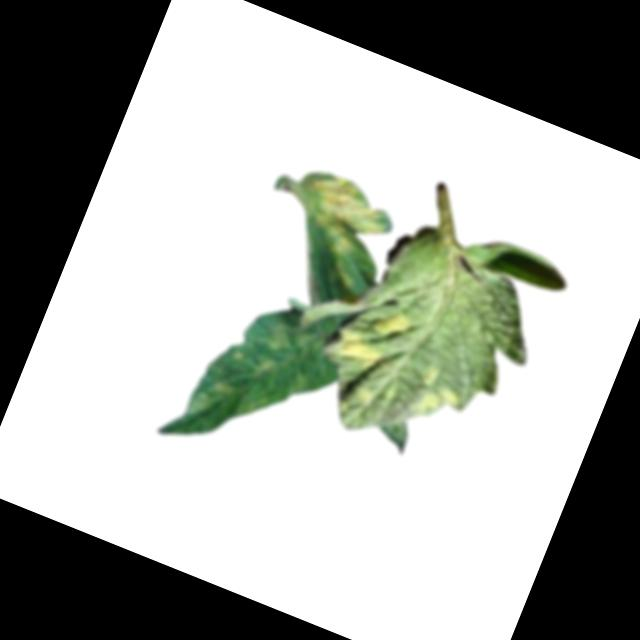Leaf_Mold: (283, 167, 396, 292), (408, 362, 468, 428), (233, 320, 290, 384), (184, 370, 241, 428), (325, 327, 386, 376), (369, 301, 417, 349)
